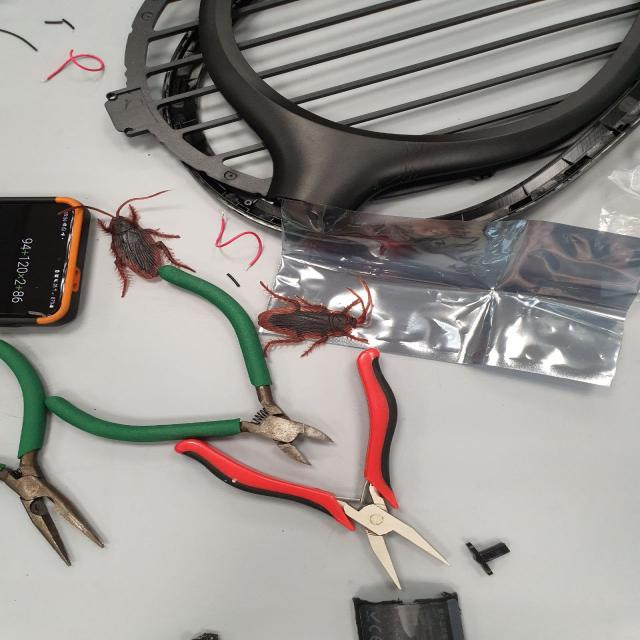Cockroach: (62, 176, 205, 296), (250, 271, 376, 363)
